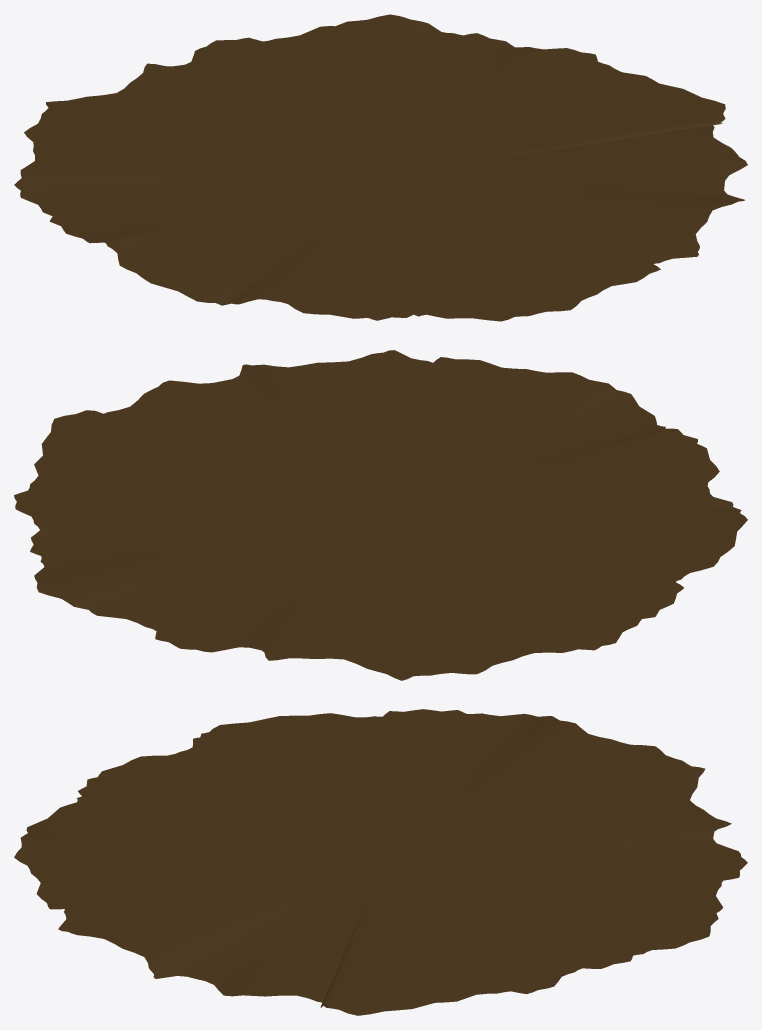
File: OilSpill.fbx
3 views of the same model, one above another, from view 1: azimuth 30°, elevation 25°; view 2: azimuth 150°, elevation 25°; view 3: azimuth 270°, elevation 25° (orthographic). The views are drawn at different scales.
Parts seen in each view (by area): view 1: Hazard_OilSpill; view 2: Hazard_OilSpill; view 3: Hazard_OilSpill.
Part boxes in pixels (x1,y1,x2,y2): Hazard_OilSpill: (14, 14, 747, 321); Hazard_OilSpill: (14, 350, 747, 680); Hazard_OilSpill: (14, 709, 747, 1015).
Size of the model in its own units: 0.5625 by 0.00349 by 0.5681.
